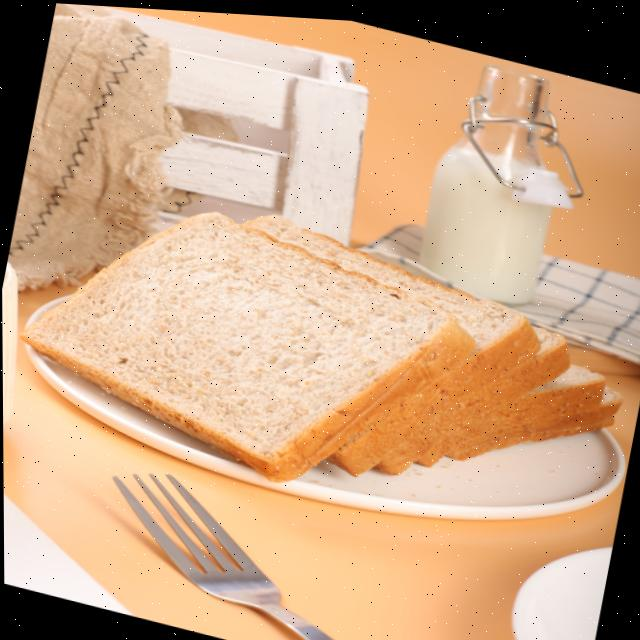Bread: (21, 211, 466, 478), (246, 212, 569, 470)
